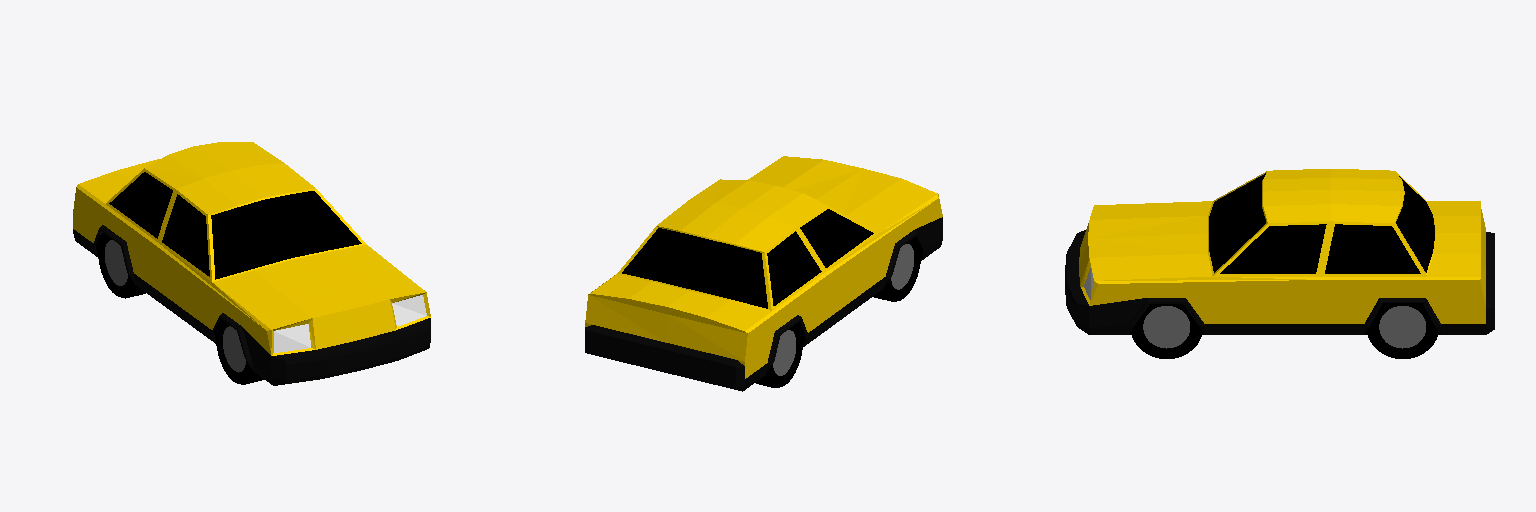
The model's file is Car3.obj.
3 renders of one model, left to right at view 1: azimuth 30°, elevation 25°; view 2: azimuth 150°, elevation 25°; view 3: azimuth 270°, elevation 25°, orthographic.
Parts seen in each view (by area): view 1: Car_Cube; view 2: Car_Cube; view 3: Car_Cube.
Boxes of the visible parts, x1=… form: Car_Cube: x1=73, y1=142, x2=430, y2=385; Car_Cube: x1=585, y1=156, x2=942, y2=391; Car_Cube: x1=1065, y1=169, x2=1494, y2=358.
Size of the model in its own units: 2.1 by 1.59 by 4.67.